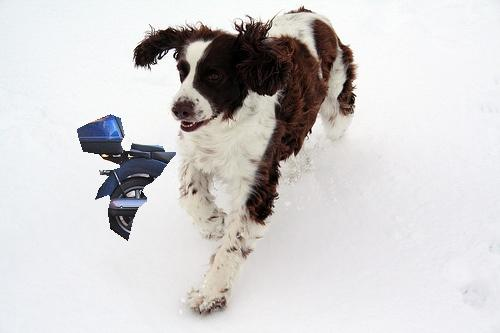tampered: (78, 115, 176, 241)
